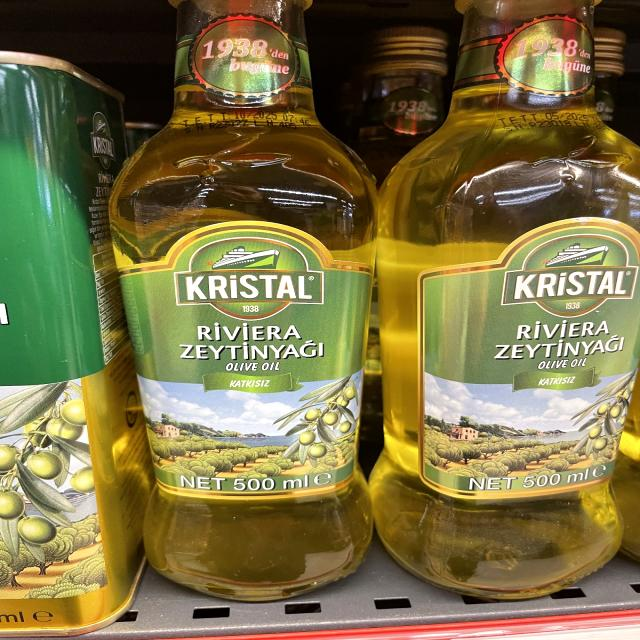olive oil: (376, 0, 640, 596), (144, 1, 349, 586)
